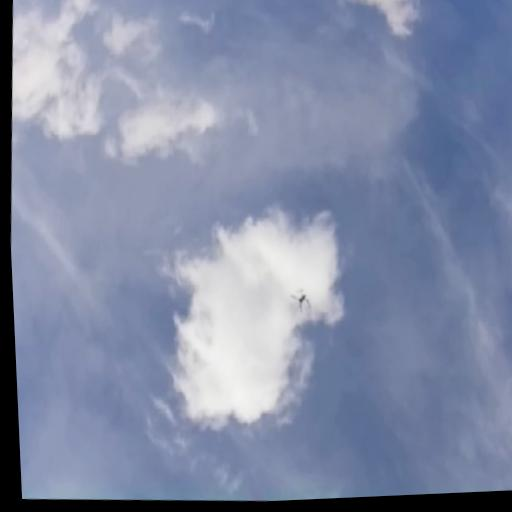drones: (288, 284, 314, 319)
